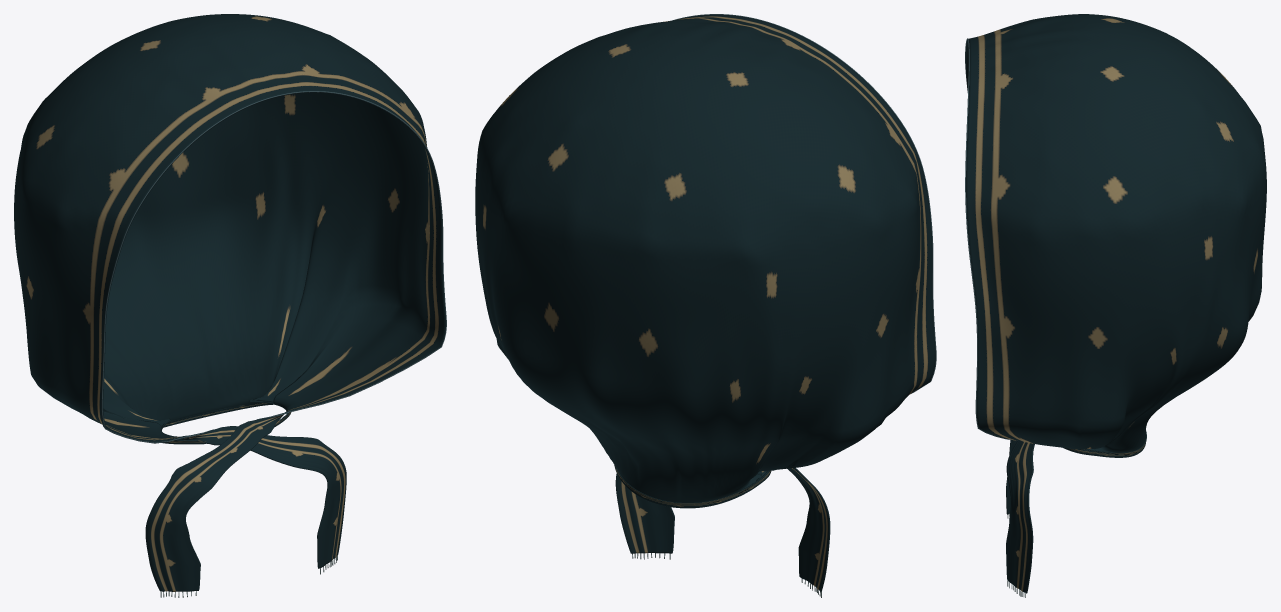
The model's file is Masculine-curly-top-sweatshirt-pashmina249-headgear.glb.
3 views of the same model, side by side, from view 1: azimuth 30°, elevation 25°; view 2: azimuth 150°, elevation 25°; view 3: azimuth 270°, elevation 25° (orthographic). The views are drawn at different scales.
Visible parts, largest first — view 1: 226 headgear / Headwear / continuous woven pashmina239, 226 headgear / Headwear / face edge239; view 2: 226 headgear / Headwear / continuous woven pashmina239, 226 headgear / Headwear / face edge239; view 3: 226 headgear / Headwear / continuous woven pashmina239, 226 headgear / Headwear / face edge239.
Part boxes in pixels (box(x1,y1,x2,y2)): 226 headgear / Headwear / continuous woven pashmina239: box(14, 14, 445, 591); 226 headgear / Headwear / face edge239: box(101, 91, 446, 443); 226 headgear / Headwear / continuous woven pashmina239: box(475, 14, 935, 591); 226 headgear / Headwear / face edge239: box(672, 14, 936, 393); 226 headgear / Headwear / continuous woven pashmina239: box(965, 14, 1266, 593); 226 headgear / Headwear / face edge239: box(965, 38, 1010, 439).
Bounding box in the file's own units: 1.08 × 1.45 × 0.762.
3 materials, 1 textured.
